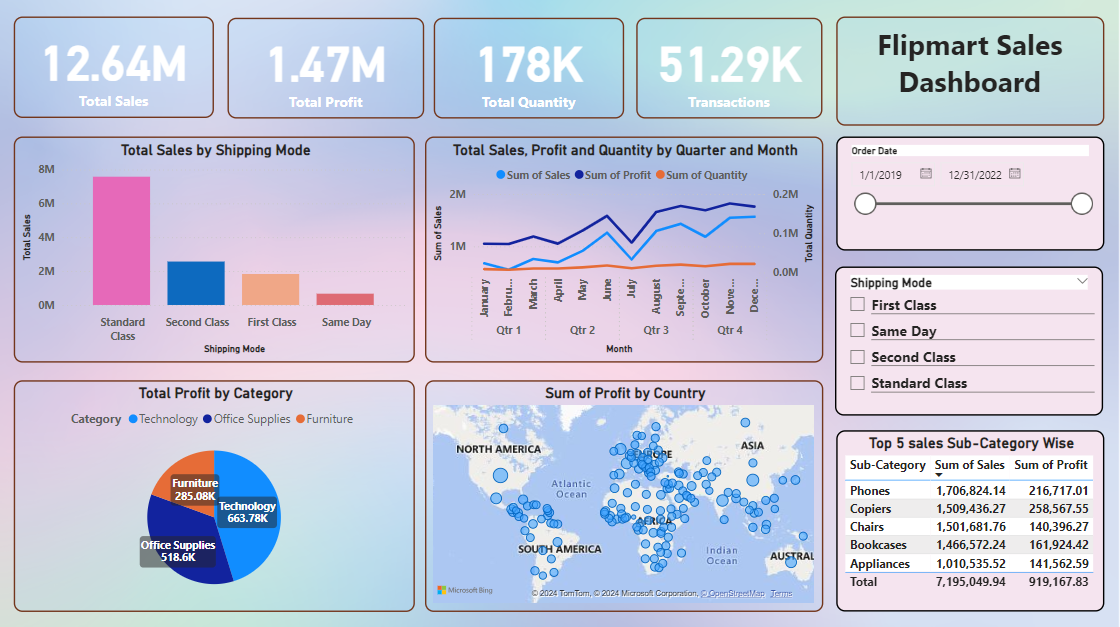

This screenshot's page, from the dashboard's own definition file:
{"tool":"powerbi","page":{"name":"Page 1","canvas":[1280,720],"ordinal":0},"visuals":[{"type":"card","fields":{"Values":["Sum(Sales.Sales)"]},"box":[16.2,20,228.8,116.2],"z":0},{"type":"card","fields":{"Values":["Sum(Sales.Profit)"]},"box":[260,21.2,225,115],"z":1000},{"type":"card","fields":{"Values":["Sum(Sales.Quantity)"]},"box":[495,21.2,217.5,115],"z":2000},{"type":"card","fields":{"Values":["CountNonNull(Sales.Order ID)"]},"box":[727.5,21.2,212.5,115],"z":3000},{"type":"clusteredColumnChart","title":"Total Sales by Shipping Mode","fields":{"Category":["Sales.Shipping Mode"],"Y":["Sum(Sales.Sales)"]},"box":[16.2,157.5,458.8,258.8],"z":4000},{"type":"pieChart","title":"Total Profit by Category","fields":{"Category":["Sales.Category"],"Y":["Sum(Sales.Profit)"]},"box":[16.2,435,458.8,265],"z":5000},{"type":"lineChart","title":"Total Sales, Profit and Quantity by Quarter and Month","fields":{"Y":["Sum(Sales.Sales)"],"Y2":["Sum(Sales.Profit)","Sum(Sales.Quantity)"],"Category":["Sales.Order Date.Variation.Date Hierarchy.Quarter","Sales.Order Date.Variation.Date Hierarchy.Month"]},"box":[485,157.5,455,258.8],"z":6000},{"type":"map","fields":{"Category":["Sales.Country"],"Size":["Sum(Sales.Profit)"]},"box":[485,435,455,265],"z":7000},{"type":"tableEx","title":"Top 5 sales Sub-Category Wise","fields":{"Values":["Sales.Sub-Category","Sum(Sales.Sales)","Sum(Sales.Profit)"]},"box":[955,492.5,306.2,207.5],"z":7001},{"type":"slicer","fields":{"Values":["Sales.Shipping Mode"]},"box":[953.8,305,306.2,170],"z":7002},{"type":"slicer","fields":{"Values":["Sales.Order Date"]},"box":[955,157.5,306.2,130],"z":7003},{"type":"textbox","box":[955,20,306.2,125],"z":7004}]}

Visuals, with their boxes in screenshot pixels (x1, y1, x2, y2), scaled from the page's 1280x720 canvas onto the 1120x627 screenshot:
card - Sum(Sales.Sales): 14 17 214 119
card - Sum(Sales.Profit): 228 18 424 119
card - Sum(Sales.Quantity): 433 18 623 119
card - CountNonNull(Sales.Order ID): 637 18 822 119
"Total Sales by Shipping Mode" clusteredColumnChart: 14 137 416 363
"Total Profit by Category" pieChart: 14 379 416 610
"Total Sales, Profit and Quantity by Quarter and Month" lineChart: 424 137 822 363
map - Sales.Country x Sum(Sales.Profit): 424 379 822 610
"Top 5 sales Sub-Category Wise" tableEx: 836 429 1104 610
slicer - Sales.Shipping Mode: 835 266 1102 414
slicer - Sales.Order Date: 836 137 1104 250
textbox: 836 17 1104 126
